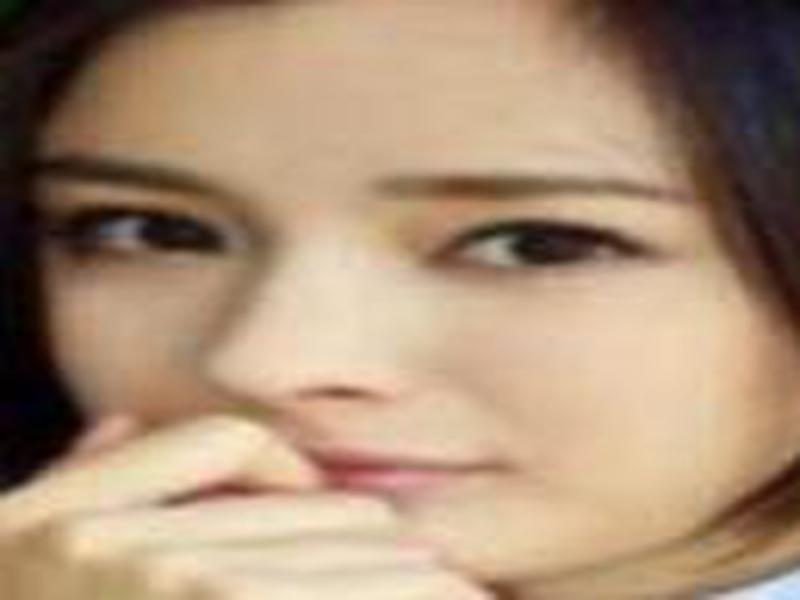without_mask: (33, 50, 787, 576)
